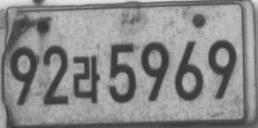2: (42, 45, 69, 106)
5: (108, 42, 137, 104)
6: (174, 40, 204, 101)
9: (207, 38, 237, 99), (140, 41, 170, 101), (9, 46, 38, 106)
라: (72, 54, 100, 104)
